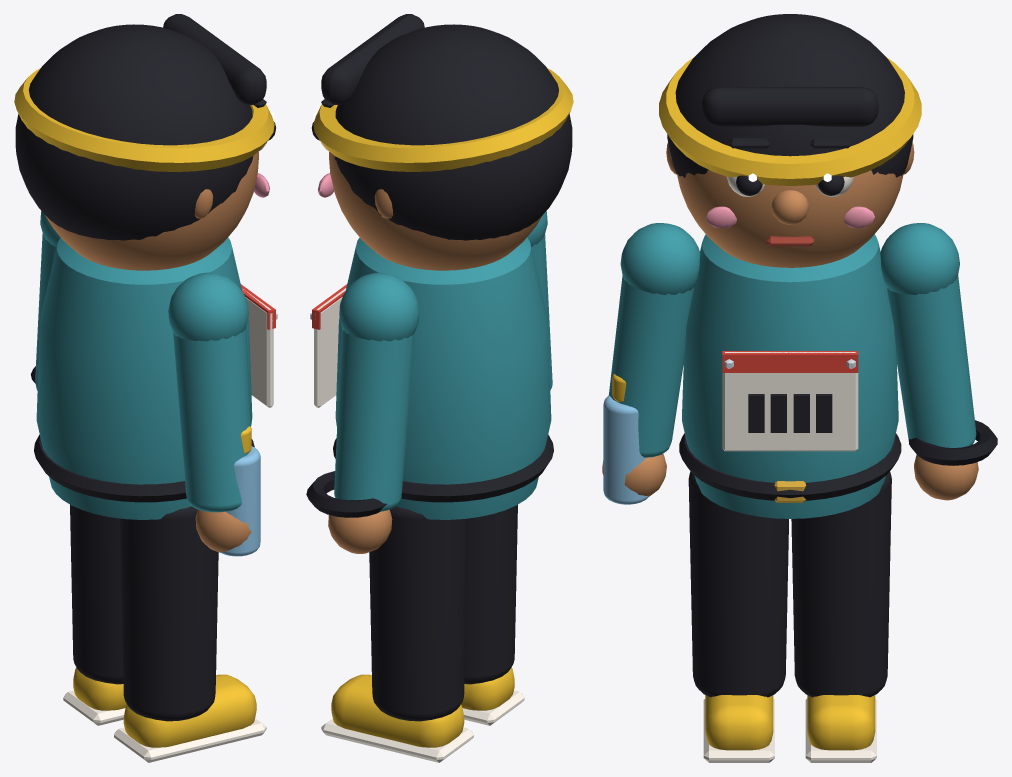
File: marathon_runner.glb
3 views of the same model, side by side, from view 1: azimuth 30°, elevation 25°; view 2: azimuth 150°, elevation 25°; view 3: azimuth 270°, elevation 25° (orthographic).
Visible parts, largest first — view 1: marathon_runner; view 2: marathon_runner; view 3: marathon_runner.
Part boxes in pixels (x1,y1,x2,y2): marathon_runner: [14, 14, 277, 762]; marathon_runner: [306, 14, 573, 762]; marathon_runner: [602, 14, 997, 762].
Bounding box in the file's own units: 0.4699 × 1.38 × 0.7102.
1 material, 1 textured.
